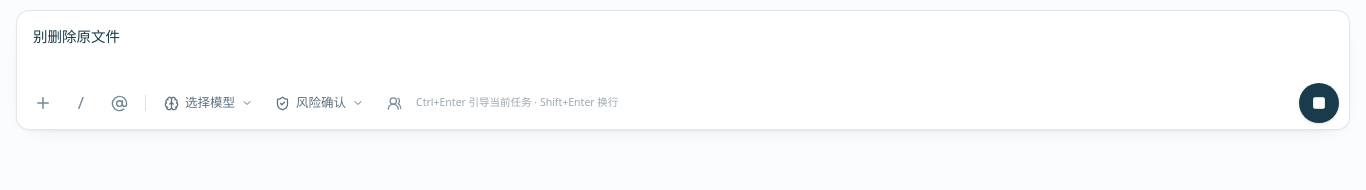
Test case: InputArea › keeps guidance text when native steering fails
Click the text box with placeholder "输入消息…".
click(683, 44)  # box [17,11,1349,77]
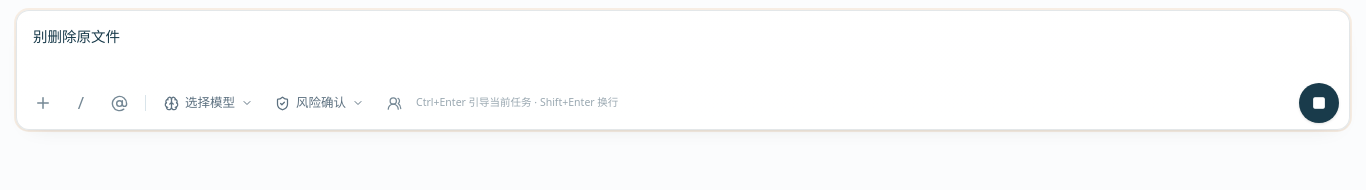
Type keys "{Control>}{Enter}{/Control}"
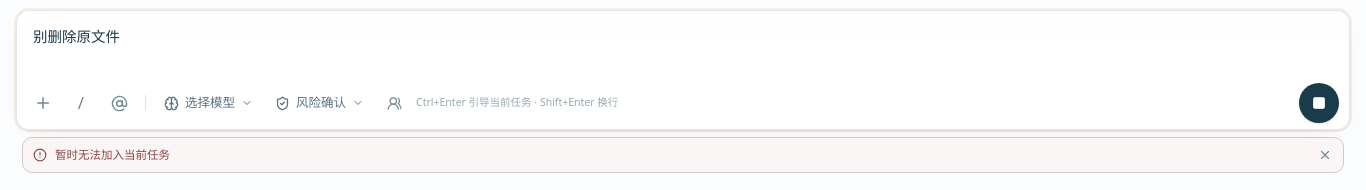
Check: the message reads "暂时无法加入当前任务", box [55,147,170,162]
